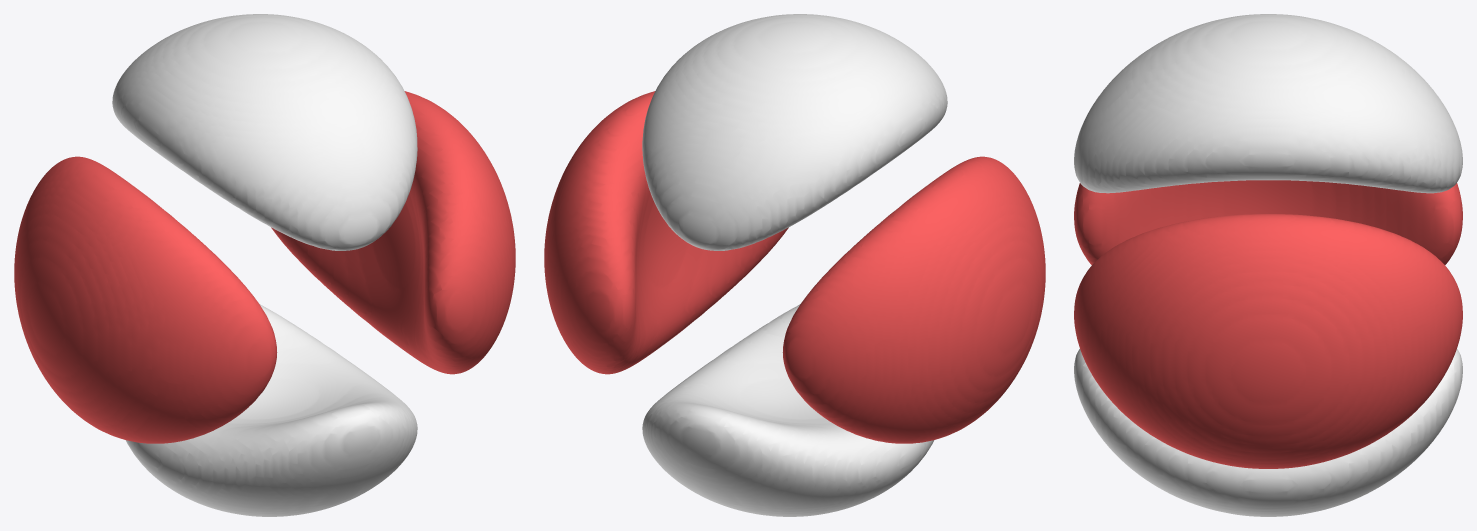
3 renders of one model, left to right at view 1: azimuth 30°, elevation 25°; view 2: azimuth 150°, elevation 25°; view 3: azimuth 270°, elevation 25°, orthographic.
Parts seen in each view (by area): view 1: d_dx2-y2; view 2: d_dx2-y2; view 3: d_dx2-y2.
Boxes of the visible parts, x1,y1,x2,y2 form: d_dx2-y2: (14,14,515,516); d_dx2-y2: (544,14,1045,516); d_dx2-y2: (1074,14,1462,516).
Bounding box in the file's own units: 2 × 2 × 1.51.
